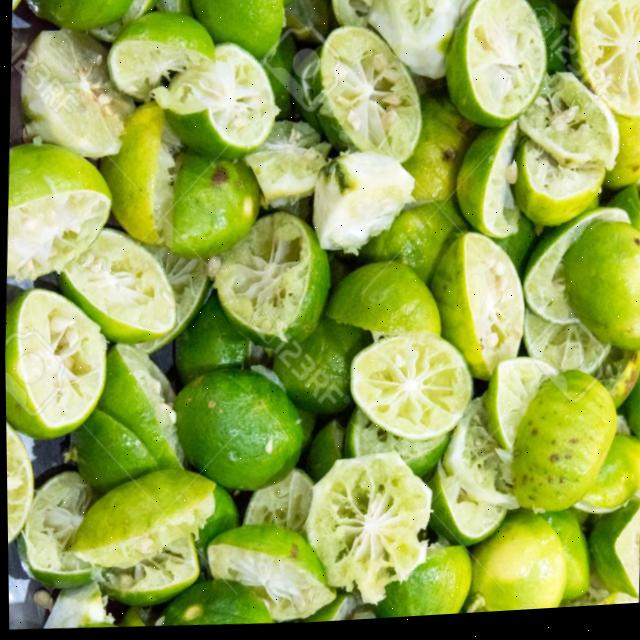Wet: (299, 450, 434, 615), (166, 366, 305, 497), (15, 20, 138, 164), (207, 211, 330, 353), (506, 372, 618, 522), (421, 233, 528, 390), (65, 464, 213, 576), (3, 284, 106, 444), (316, 26, 425, 176), (3, 138, 116, 281), (50, 225, 177, 351), (440, 0, 549, 139), (156, 40, 278, 161), (345, 332, 472, 448), (202, 522, 334, 631), (92, 340, 188, 479), (514, 74, 621, 187), (95, 101, 173, 250), (557, 225, 640, 363), (17, 466, 103, 595), (106, 8, 216, 107), (322, 262, 441, 344), (565, 0, 640, 126), (454, 124, 526, 247), (479, 360, 555, 465), (428, 457, 507, 558), (237, 469, 321, 554), (585, 506, 640, 613)
